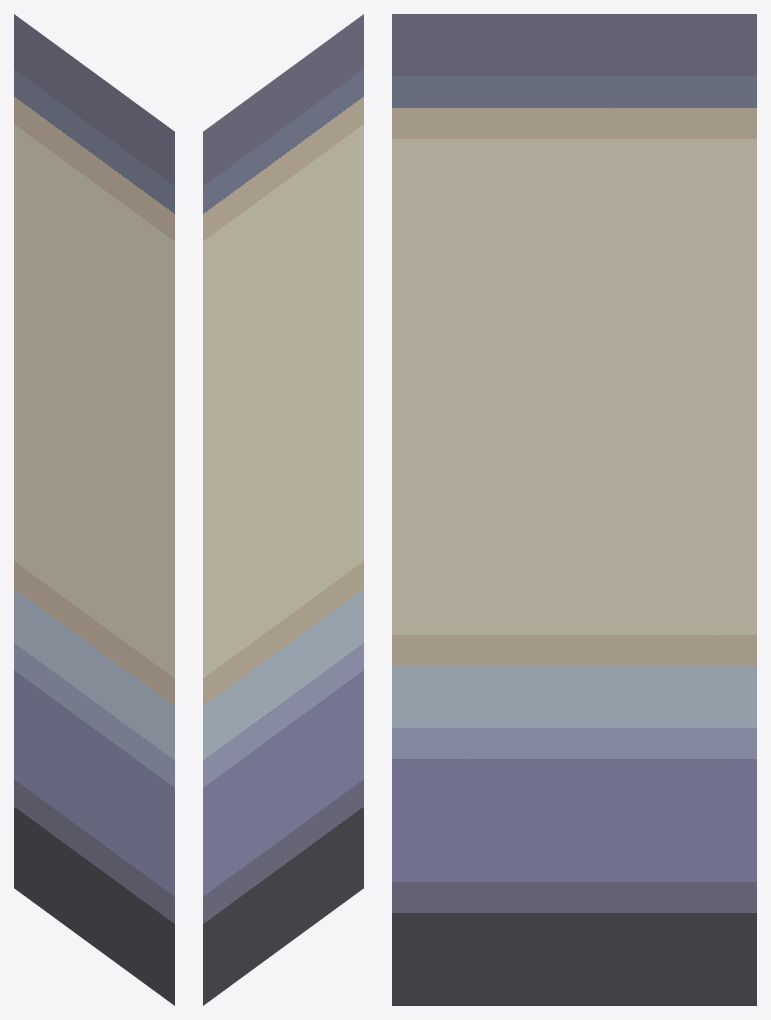
3 views of the same model, side by side, from view 1: azimuth 30°, elevation 25°; view 2: azimuth 150°, elevation 25°; view 3: azimuth 270°, elevation 25° (orthographic). The views are drawn at different scales.
Size of the model in its own units: 0 by 3 by 1.
1 material, 1 textured.
